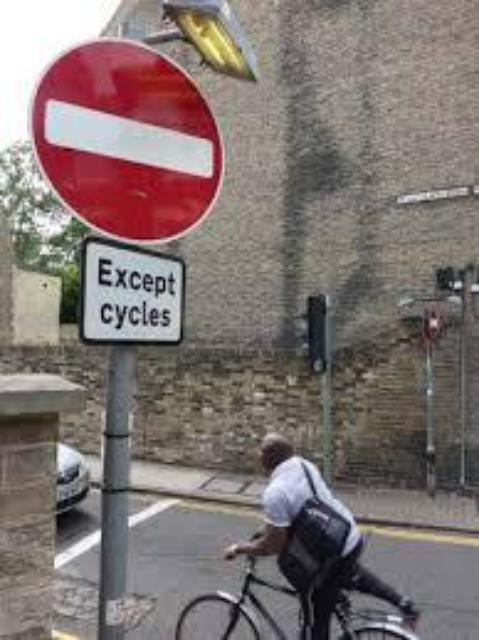B2: (25, 32, 227, 244)
